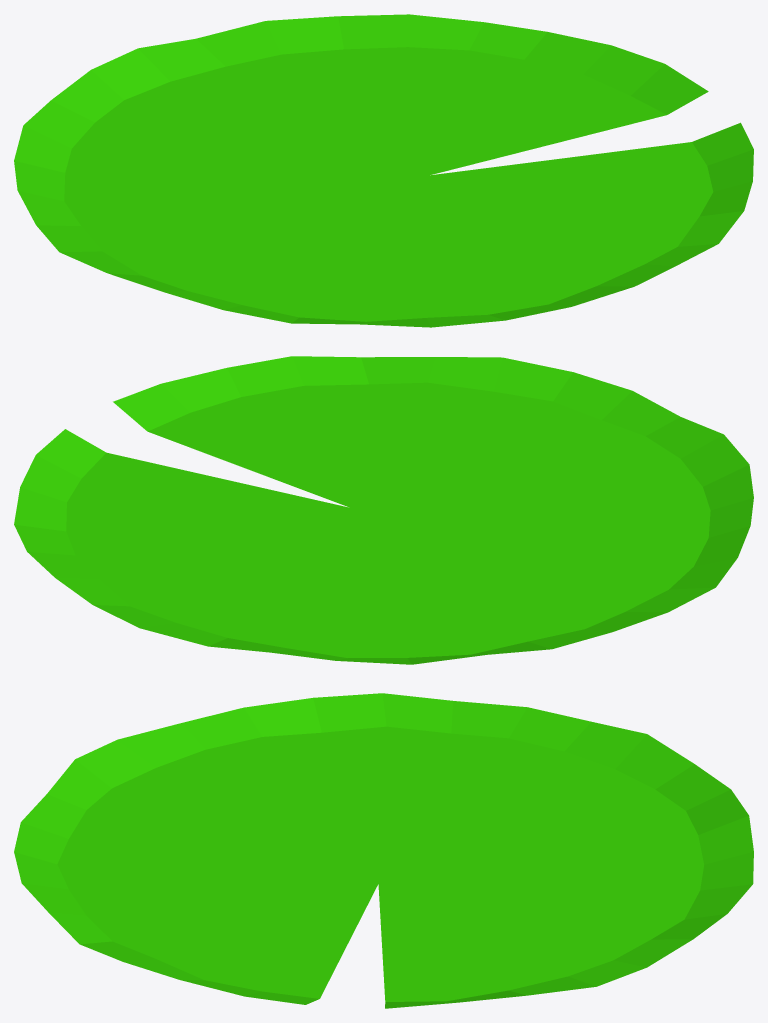
The model's file is lilypad.fbx.
3 views of the same model, one above another, from view 1: azimuth 30°, elevation 25°; view 2: azimuth 150°, elevation 25°; view 3: azimuth 270°, elevation 25° (orthographic).
Visible parts, largest first — view 1: Cylinder; view 2: Cylinder; view 3: Cylinder.
Part boxes in pixels (box(x1,y1,x2,y2)): Cylinder: box(14, 14, 753, 327); Cylinder: box(14, 356, 753, 664); Cylinder: box(14, 693, 753, 1008).
Size of the model in its own units: 232 by 7.02 by 229.
